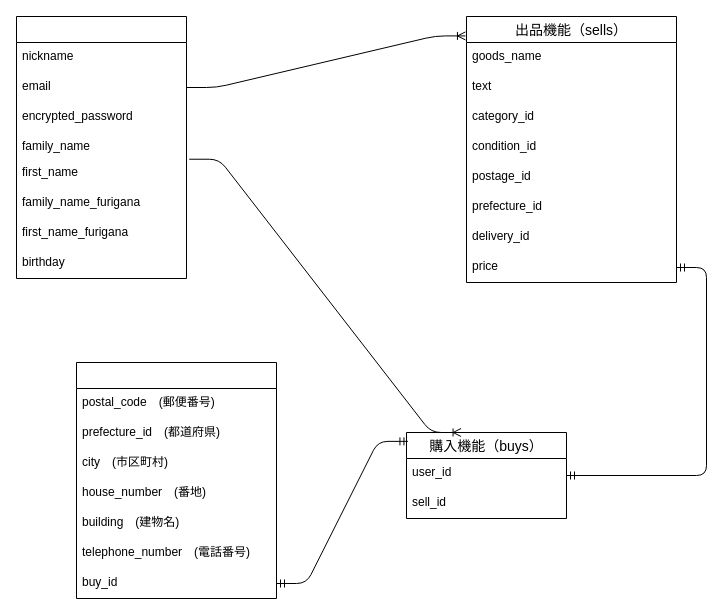
This 723x615 diagram has some shape labels left out. The box of each missing label's shape, as (x1, y1, x2, y2) in pixels:
ユーザー（users）: (16, 16, 186, 278)
配送先情報（addresses）: (76, 362, 276, 598)
